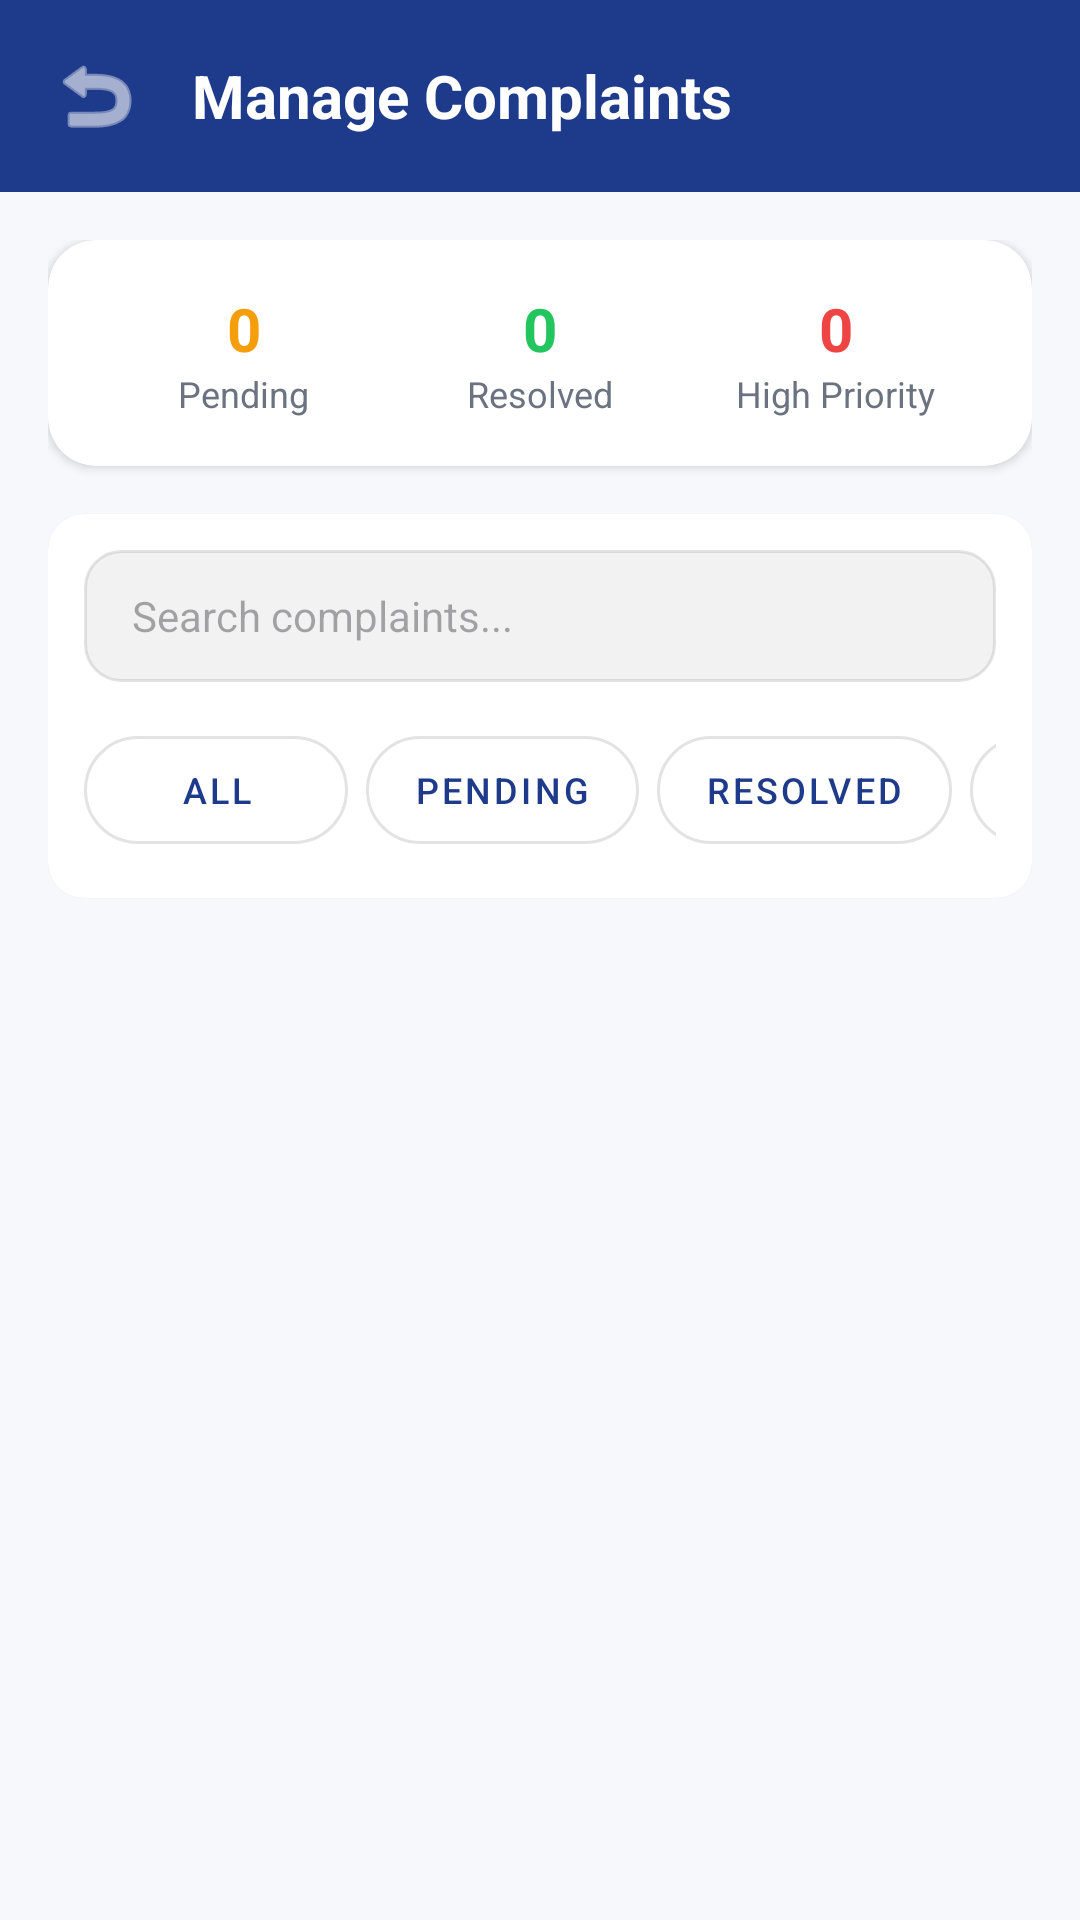

Icon click points for this 1080*1920 phone screenshot, format (x=x, y=y):
Back: (x=97, y=96)
